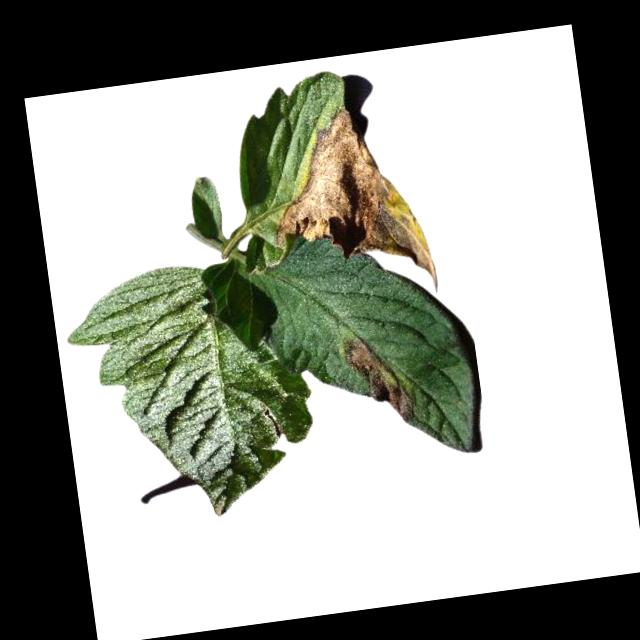Late_blight: (258, 96, 442, 311), (341, 328, 417, 426)
healthy: (60, 249, 330, 531)
